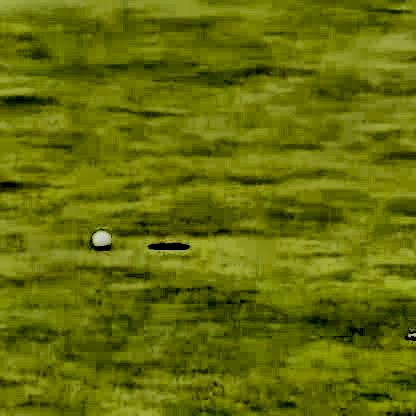golfball: (90, 227, 108, 245)
